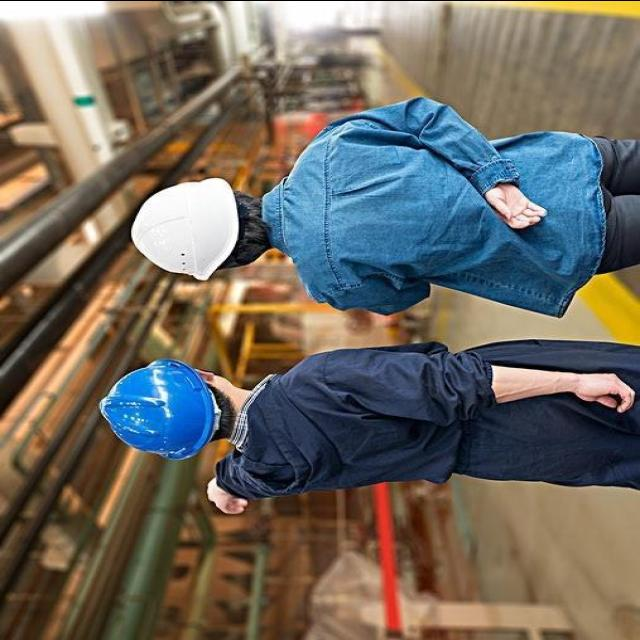helmet: (89, 354, 217, 468), (125, 170, 240, 286)
